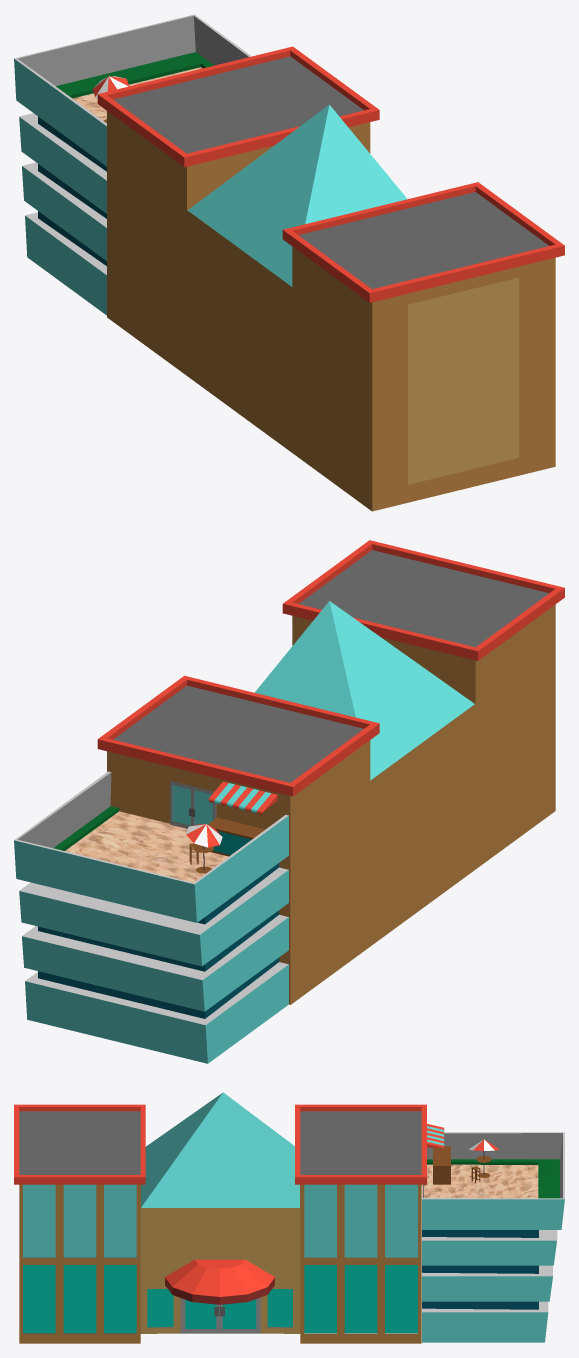
Rendered from ShoppingCenter.fbx.
3 renders of one model, top to bottom at view 1: azimuth 30°, elevation 25°; view 2: azimuth 150°, elevation 25°; view 3: azimuth 270°, elevation 25°, orthographic. The views are drawn at different scales.
Visible parts, largest first — view 1: TETTO; view 2: TETTO, sombrellone; view 3: TETTO, sombrellone.
Boxes of the visible parts, box(x1,y1,x2,y2) form: TETTO: box(14, 14, 564, 511); TETTO: box(14, 540, 564, 1063); sombrellone: box(186, 824, 222, 873); TETTO: box(14, 1092, 564, 1343); sombrellone: box(468, 1139, 499, 1177).
Bounding box in the file's own units: 539 × 678 × 1558.
